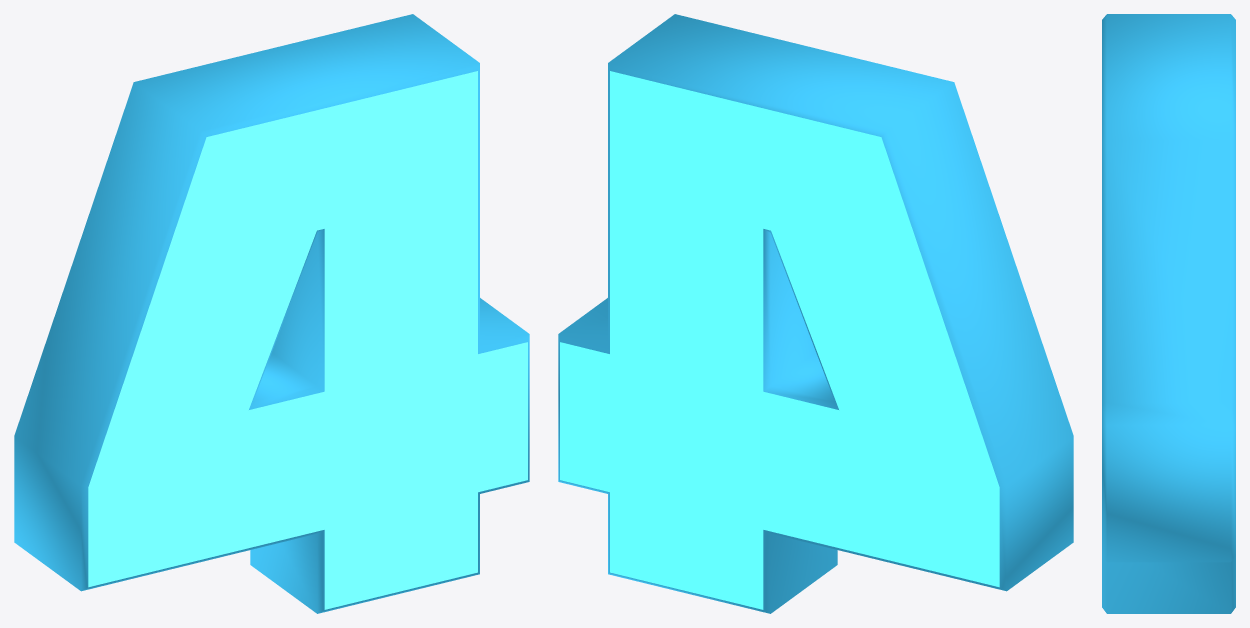
3 renders of one model, left to right at view 1: azimuth 30°, elevation 25°; view 2: azimuth 150°, elevation 25°; view 3: azimuth 270°, elevation 25°, orthographic. The views are drawn at different scales.
Visible parts, largest first — view 1: glyph; view 2: glyph; view 3: glyph.
Part boxes in pixels (x1,y1,x2,y2): glyph: (14,14,529,613); glyph: (558,14,1073,613); glyph: (1102,14,1235,613).
Bounding box in the file's own units: 0.058 × 0.0632 × 0.0162.
